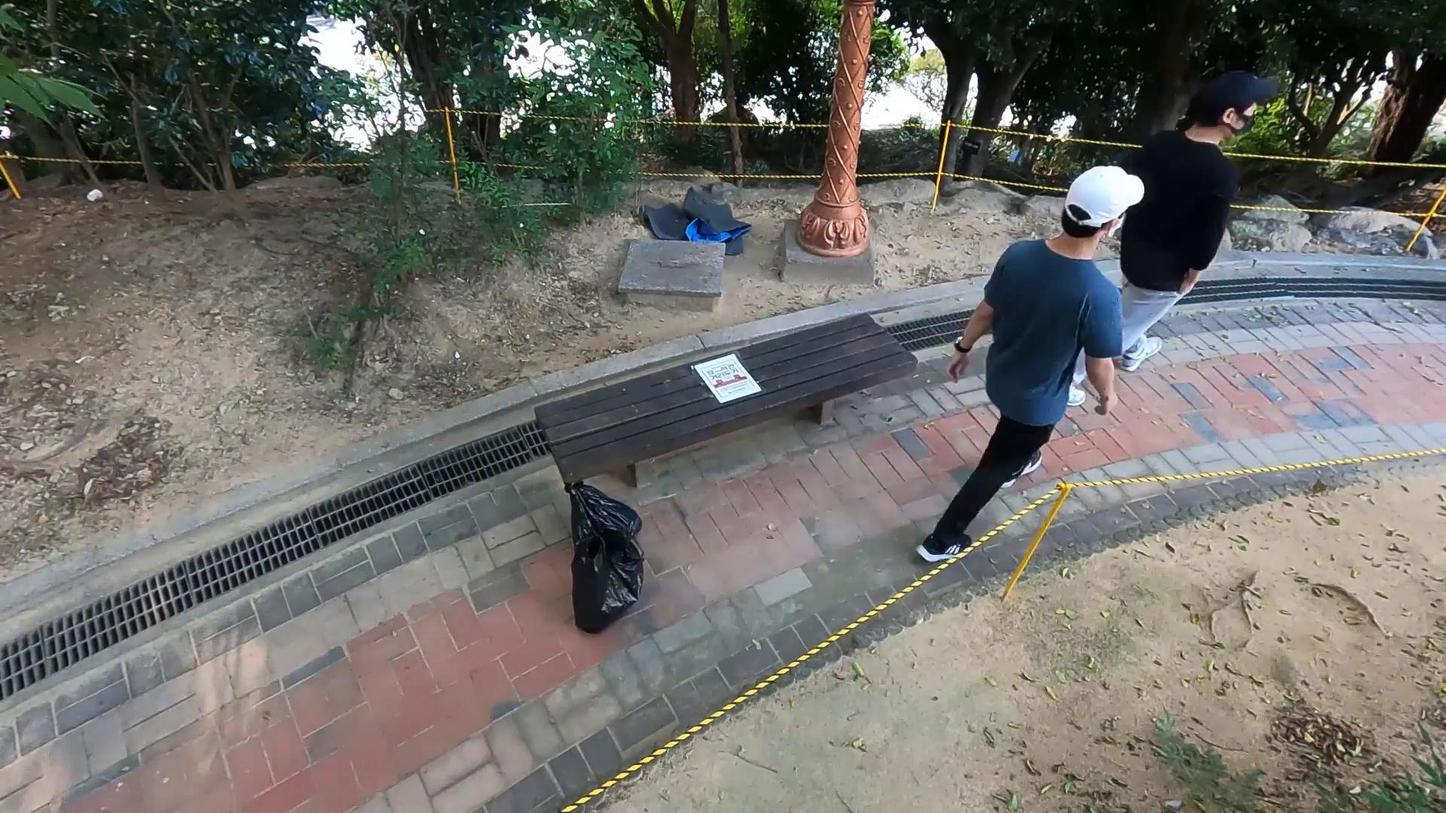person: (910, 163, 1133, 598), (1052, 56, 1294, 424)
trash: (559, 526, 648, 634), (552, 473, 646, 564)
